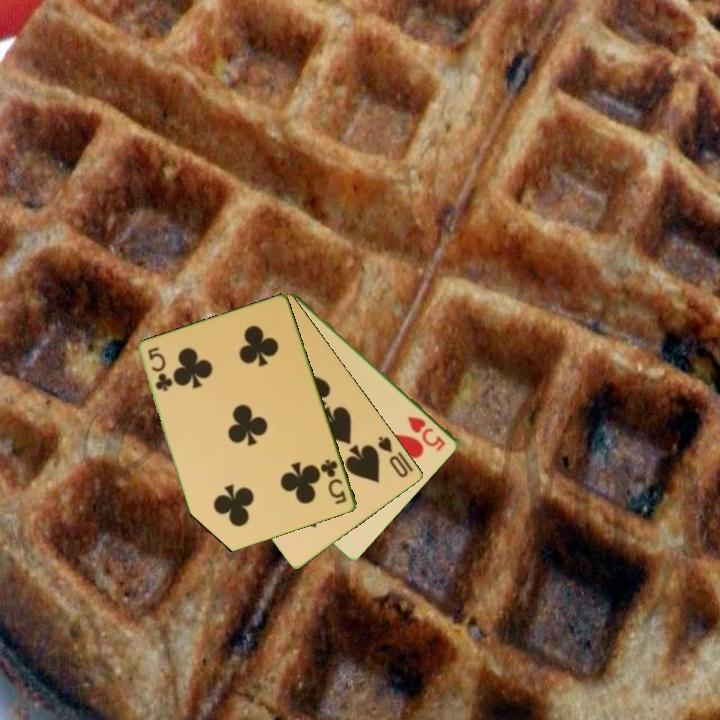10s: (374, 432, 411, 481)
5c: (317, 456, 350, 508), (145, 343, 174, 394)
5h: (404, 412, 449, 455)
